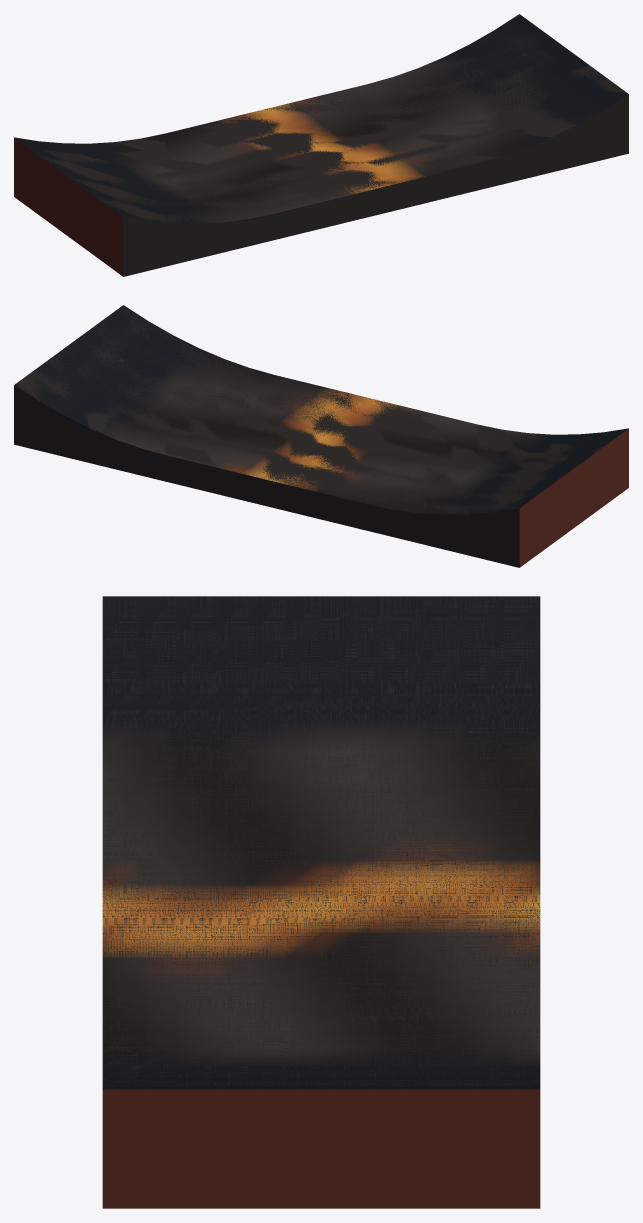
File: lava_chute_3x0p5x8.glb
3 renders of one model, top to bottom at view 1: azimuth 30°, elevation 25°; view 2: azimuth 150°, elevation 25°; view 3: azimuth 270°, elevation 25°, orthographic. The views are drawn at different scales.
Parts seen in each view (by area): view 1: lava_chute_3x0p5x8, lava_chute_3x0p5x8-col; view 2: lava_chute_3x0p5x8, lava_chute_3x0p5x8-col; view 3: lava_chute_3x0p5x8, lava_chute_3x0p5x8-col.
Boxes of the visible parts, x1,y1,x2,y2 form: lava_chute_3x0p5x8: [14, 14, 628, 276]; lava_chute_3x0p5x8-col: [37, 14, 626, 223]; lava_chute_3x0p5x8: [14, 305, 628, 567]; lava_chute_3x0p5x8-col: [14, 306, 625, 514]; lava_chute_3x0p5x8: [102, 596, 540, 1208]; lava_chute_3x0p5x8-col: [102, 596, 540, 1089].
Bounding box in the file's own units: 8 × 0.9 × 3.
